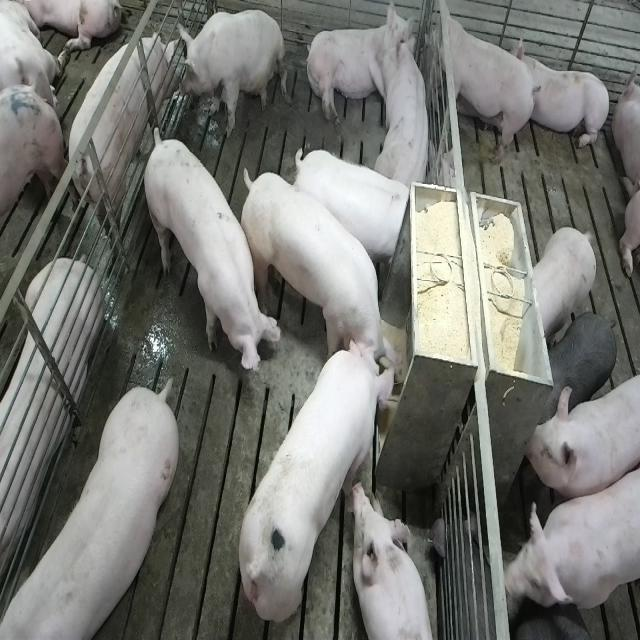Feeding: (236, 333, 400, 625), (234, 158, 400, 381)
Sitting: (176, 8, 285, 138), (375, 8, 434, 190)
Standing: (0, 382, 176, 640), (143, 128, 282, 384), (58, 33, 179, 252), (504, 459, 638, 618), (430, 3, 539, 167), (291, 146, 414, 273), (524, 370, 637, 500), (536, 309, 618, 424), (530, 226, 597, 345), (510, 609, 604, 640)
Sternal_lying: (0, 261, 100, 611), (352, 481, 439, 640), (519, 39, 612, 155)
